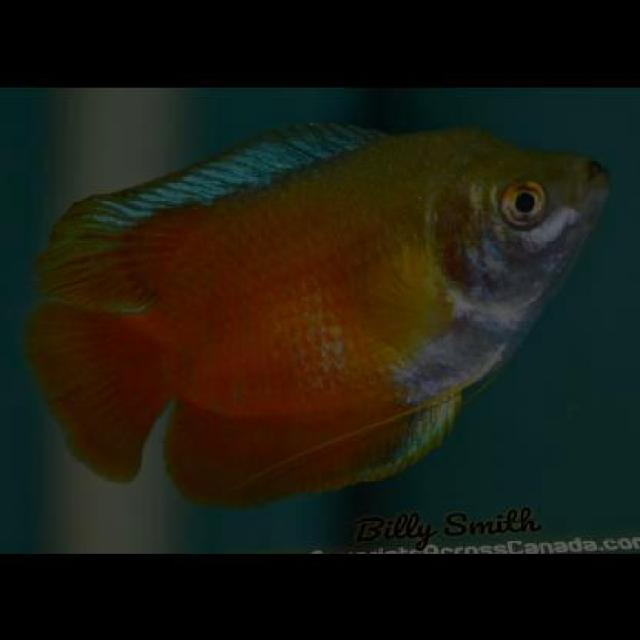Gourami: (37, 121, 603, 507)
